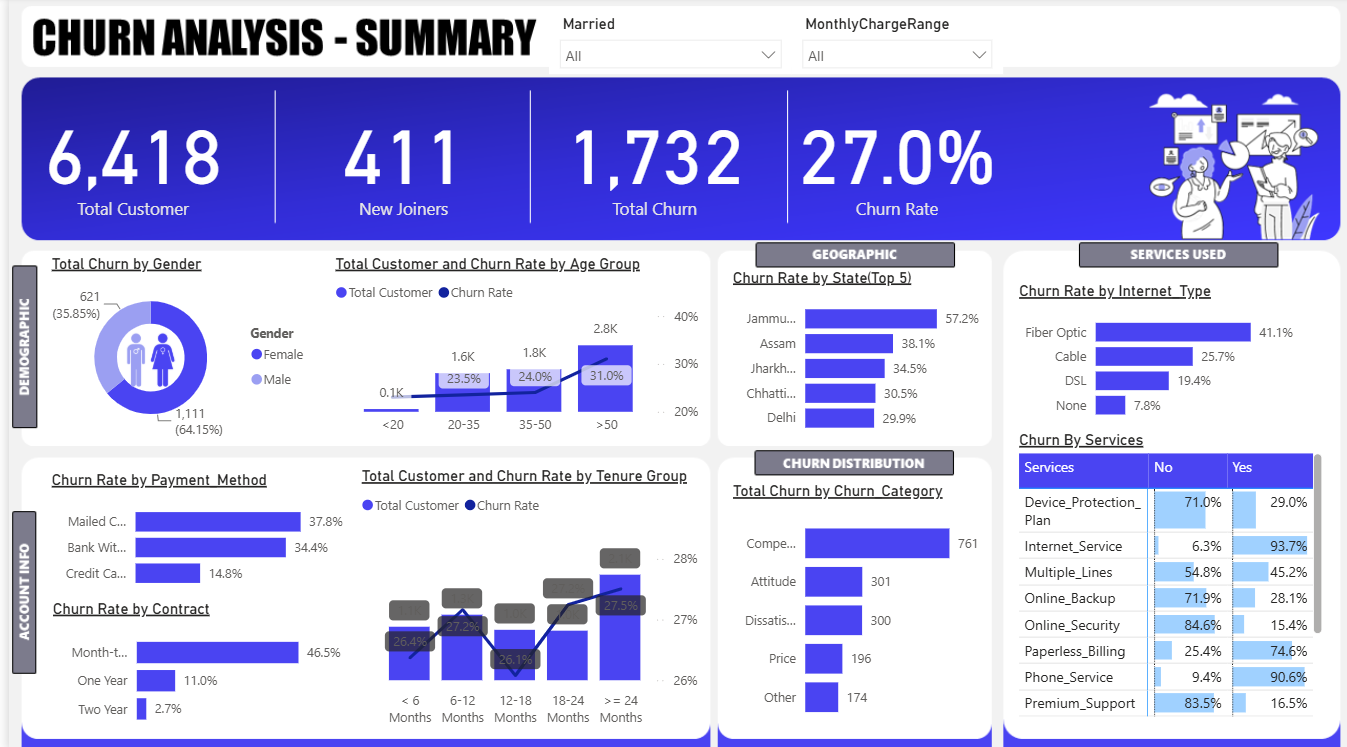

What the dashboard file says about the page in this screenshot:
{"tool":"powerbi","page":{"name":"Summary","canvas":[1280,720],"ordinal":0},"visuals":[{"type":"card","fields":{"Values":["tbl_Measures.Total Customer"]},"box":[15.7,82.9,205.7,140],"z":0},{"type":"card","fields":{"Values":["tbl_Measures.New Joiners"]},"box":[295.7,82.9,161.4,140],"z":1000},{"type":"card","fields":{"Values":["tbl_Measures.Total Churn"]},"box":[520,82.9,190,140],"z":2000},{"type":"card","fields":{"Values":["select","tbl_Measures.Churn Rate"]},"box":[745.7,82.9,201.4,140],"z":3000},{"type":"donutChart","fields":{"Category":["prod_Churn.Gender"],"Y":["tbl_Measures.Total Churn"]},"box":[35.7,245.7,260,180],"z":4000},{"type":"lineStackedColumnComboChart","fields":{"Category":["mapping_AgeGrp.Age Group"],"Y":["tbl_Measures.Total Customer"],"Y2":["tbl_Measures.Churn Rate"]},"box":[305.7,245.7,355.7,180],"z":5000},{"type":"clusteredBarChart","fields":{"Category":["prod_Churn.Payment_Method"],"Y":["tbl_Measures.Churn Rate"]},"box":[35.7,451.4,287.1,122.9],"z":6000},{"type":"clusteredBarChart","fields":{"Category":["prod_Churn.Contract"],"Y":["tbl_Measures.Churn Rate"]},"box":[37.1,574.3,288.6,131.4],"z":7000},{"type":"lineStackedColumnComboChart","fields":{"Category":["mapping_TenureGrp.Tenure Group"],"Y":["tbl_Measures.Total Customer"],"Y2":["tbl_Measures.Churn Rate"]},"box":[331.4,447.1,330,254.3],"z":8000},{"type":"clusteredBarChart","title":"Churn Rate by State(Top 5)","fields":{"Category":["prod_Churn.State"],"Y":["tbl_Measures.Churn Rate"]},"box":[684.3,258.6,244.3,167.1],"z":9000},{"type":"clusteredBarChart","fields":{"Category":["prod_Churn.Churn_Category"],"Y":["tbl_Measures.Total Churn"]},"box":[684.3,461.4,244.3,240],"z":10000},{"type":"clusteredBarChart","fields":{"Category":["prod_Churn.Internet_Type"],"Y":["tbl_Measures.Churn Rate"]},"box":[957.1,271.4,298.6,141.4],"z":11000},{"type":"pivotTable","title":"Churn By Services","fields":{"Rows":["prod_Services.Services"],"Columns":["prod_Services.Status"],"Values":["Sum(prod_Services.Churn Status)"]},"box":[957.1,412.9,298.6,277.1],"z":12000},{"type":"slicer","fields":{"Values":["prod_Churn.MonthlyChargeStatus"]},"box":[745.7,11.4,201.4,61.4],"z":13000},{"type":"slicer","fields":{"Values":["prod_Churn.Married"]},"box":[514.3,11.4,231.4,61.4],"z":14000},{"type":"image","box":[102.9,295,65.9,98.8],"z":15000}]}

Visuals, with their boxes in screenshot pixels (x1, y1, x2, y2), scaled from the page's 1280x720 canvas onto the 1347x747 screenshot:
card - tbl_Measures.Total Customer: crop(17, 86, 233, 231)
card - tbl_Measures.New Joiners: crop(311, 86, 481, 231)
card - tbl_Measures.Total Churn: crop(547, 86, 747, 231)
card - select x tbl_Measures.Churn Rate: crop(785, 86, 997, 231)
donutChart - prod_Churn.Gender x tbl_Measures.Total Churn: crop(38, 255, 311, 442)
lineStackedColumnComboChart - mapping_AgeGrp.Age Group x tbl_Measures.Total Customer: crop(322, 255, 696, 442)
clusteredBarChart - prod_Churn.Payment_Method x tbl_Measures.Churn Rate: crop(38, 468, 340, 596)
clusteredBarChart - prod_Churn.Contract x tbl_Measures.Churn Rate: crop(39, 596, 343, 732)
lineStackedColumnComboChart - mapping_TenureGrp.Tenure Group x tbl_Measures.Total Customer: crop(349, 464, 696, 728)
"Churn Rate by State(Top 5)" clusteredBarChart: crop(720, 268, 977, 442)
clusteredBarChart - prod_Churn.Churn_Category x tbl_Measures.Total Churn: crop(720, 479, 977, 728)
clusteredBarChart - prod_Churn.Internet_Type x tbl_Measures.Churn Rate: crop(1007, 282, 1321, 428)
"Churn By Services" pivotTable: crop(1007, 428, 1321, 716)
slicer - prod_Churn.MonthlyChargeStatus: crop(785, 12, 997, 76)
slicer - prod_Churn.Married: crop(541, 12, 785, 76)
image: crop(108, 306, 178, 409)
